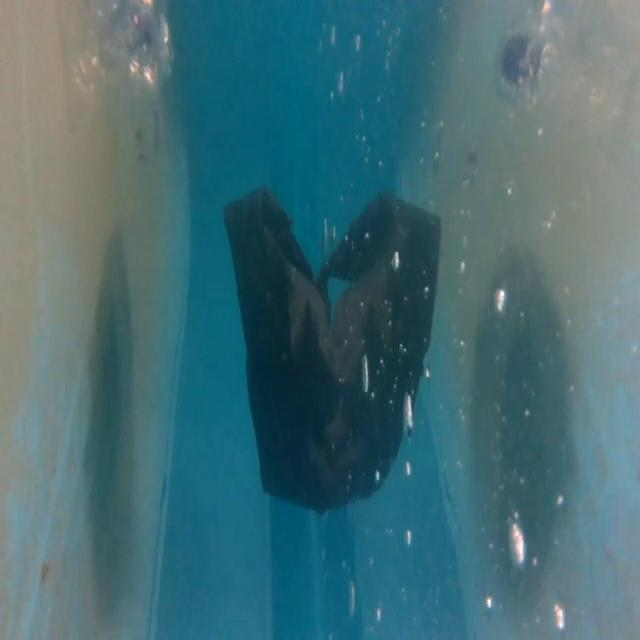plastic bags: (220, 181, 445, 518)
